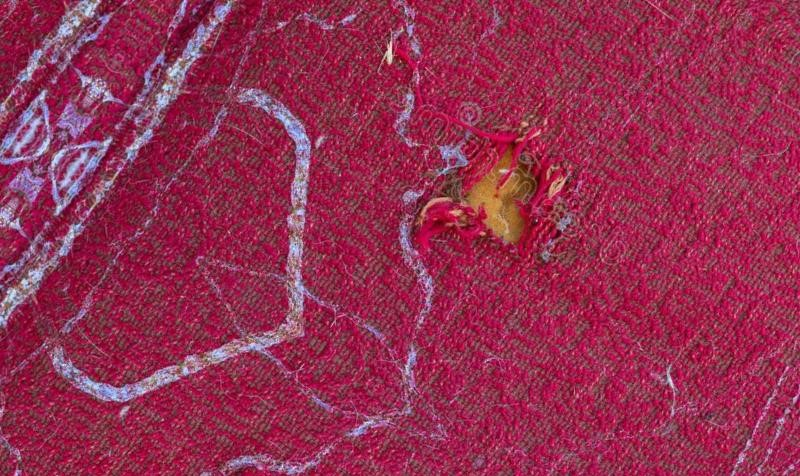hole: (445, 132, 563, 254)
